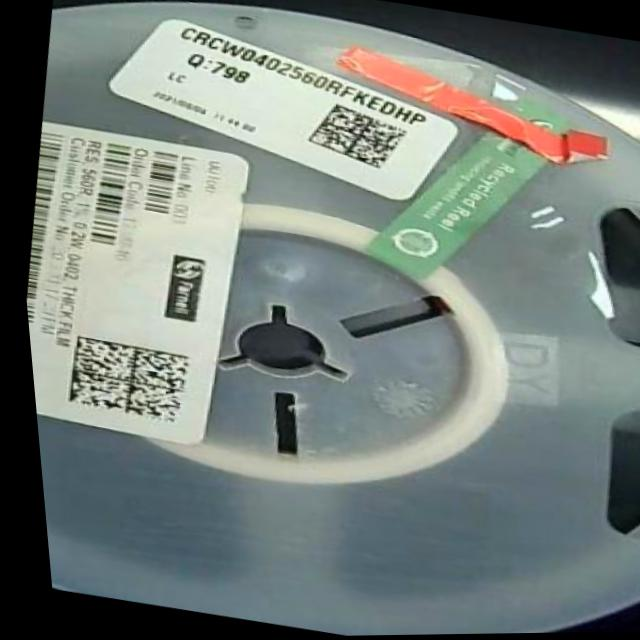datamatrix: (52, 331, 191, 427), (295, 97, 414, 179)
